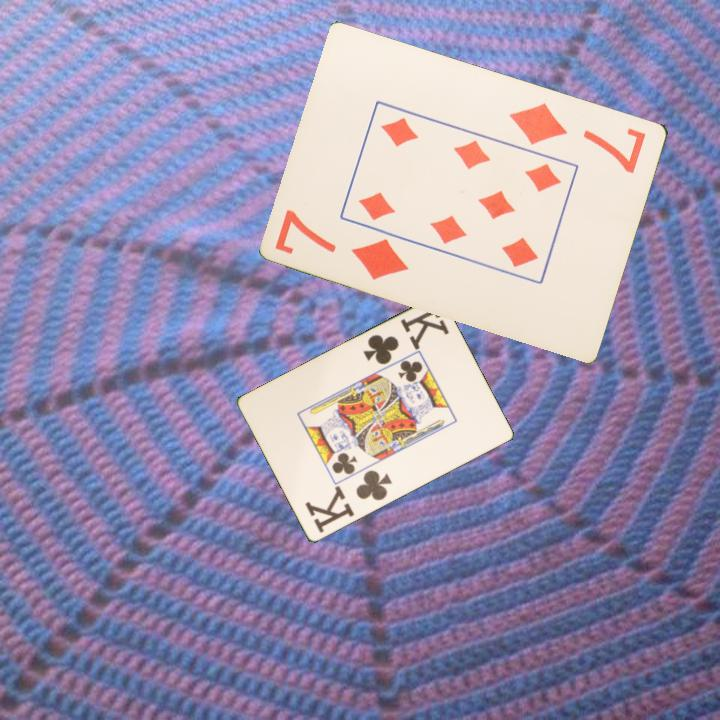7d: (506, 98, 650, 176), (272, 205, 413, 283)
Kc: (301, 466, 395, 537), (359, 300, 451, 368)
